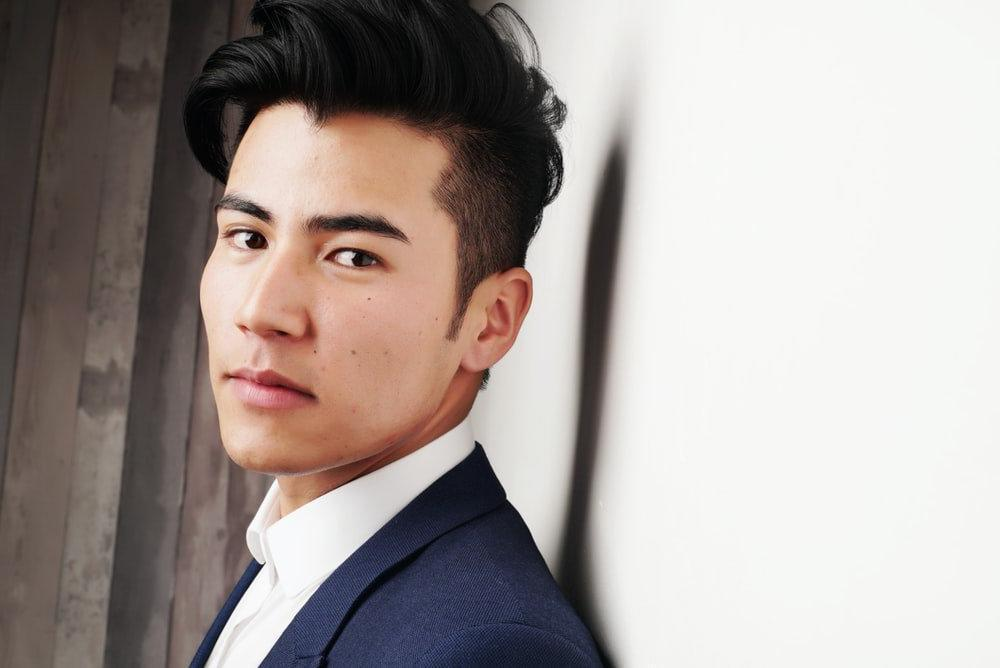Sober: (202, 127, 473, 466)
